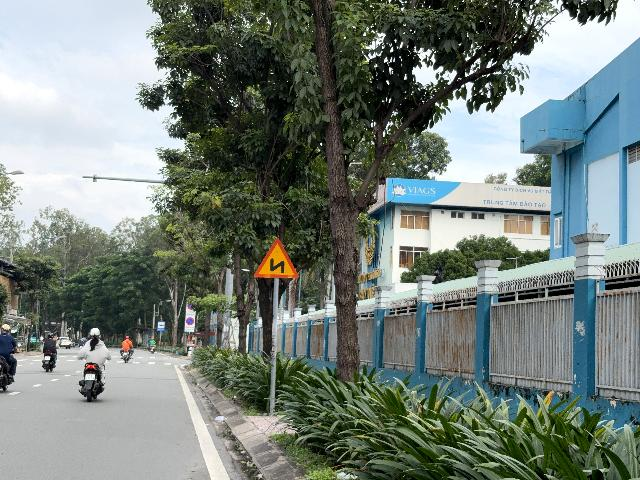nhieu-cho-ngoat-nguy-hiem-lien-tiep: (253, 237, 299, 278)
